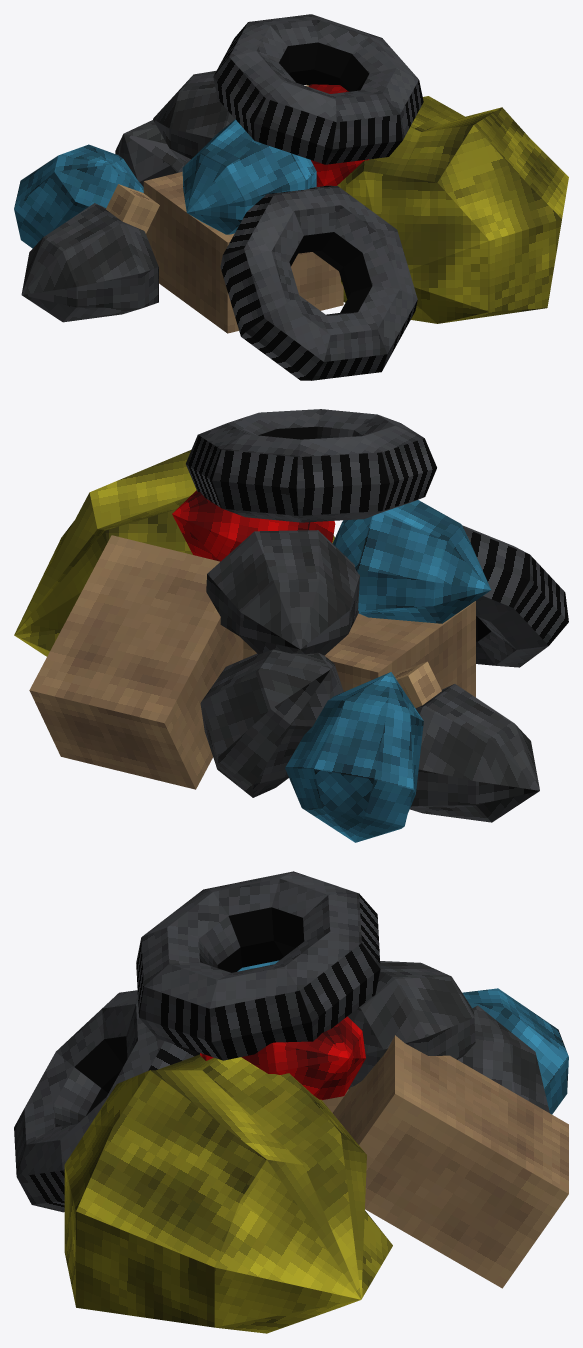
Rendered from trash_pile_1.gltf.
The picture shows the model from 3 angles, top to bottom: view 1: azimuth 30°, elevation 25°; view 2: azimuth 150°, elevation 25°; view 3: azimuth 270°, elevation 25°; orthographic projection. The views are drawn at different scales.
Parts seen in each view (by area): view 1: big_yellow_bag, tire_2, tire_1, black_bag_1, cardboard_box_1, blue_bag_2, blue_bag_1, black_bag_2, black_bag_3, small_box, red_bag_1; view 2: cardboard_box_2, tire_1, blue_bag_1, black_bag_2, black_bag_3, blue_bag_2, black_bag_1, big_yellow_bag, tire_2, cardboard_box_1, red_bag_1, small_box; view 3: big_yellow_bag, cardboard_box_2, tire_1, tire_2, black_bag_2, red_bag_1, black_bag_3, blue_bag_1.
Boxes of the visible parts, left/top/right/bottom form: big_yellow_bag: left=337, top=96, right=568, bottom=323; tire_2: left=220, top=185, right=417, bottom=380; tire_1: left=213, top=14, right=423, bottom=164; black_bag_1: left=21, top=203, right=158, bottom=322; cardboard_box_1: left=143, top=171, right=343, bottom=333; blue_bag_2: left=182, top=119, right=316, bottom=234; blue_bag_1: left=14, top=144, right=143, bottom=248; black_bag_2: left=153, top=70, right=234, bottom=162; black_bag_3: left=115, top=120, right=186, bottom=186; small_box: left=106, top=184, right=159, bottom=233; red_bag_1: left=308, top=84, right=368, bottom=186; cardboard_box_2: left=29, top=535, right=243, bottom=789; tire_1: left=186, top=409, right=436, bottom=522; blue_bag_1: left=285, top=672, right=423, bottom=842; black_bag_2: left=206, top=530, right=359, bottom=655; black_bag_3: left=200, top=649, right=343, bottom=797; blue_bag_2: left=332, top=500, right=490, bottom=623; black_bag_1: left=410, top=684, right=539, bottom=822; big_yellow_bag: left=14, top=449, right=334, bottom=656; tire_2: left=462, top=525, right=568, bottom=667; cardboard_box_1: left=243, top=601, right=475, bottom=697; red_bag_1: left=172, top=490, right=335, bottom=561; small_box: left=394, top=661, right=441, bottom=708; big_yellow_bag: left=64, top=1054, right=392, bottom=1333; cardboard_box_2: left=332, top=1035, right=568, bottom=1288; tire_1: left=136, top=871, right=380, bottom=1060; tire_2: left=14, top=990, right=199, bottom=1212; black_bag_2: left=347, top=961, right=475, bottom=1089; red_bag_1: left=200, top=1016, right=365, bottom=1100; black_bag_3: left=458, top=1005, right=549, bottom=1113; blue_bag_1: left=462, top=988, right=568, bottom=1114.
Bounding box in the file's own units: 2.06 × 1.09 × 1.68.
Materials: 7 (7 with a texture image).
